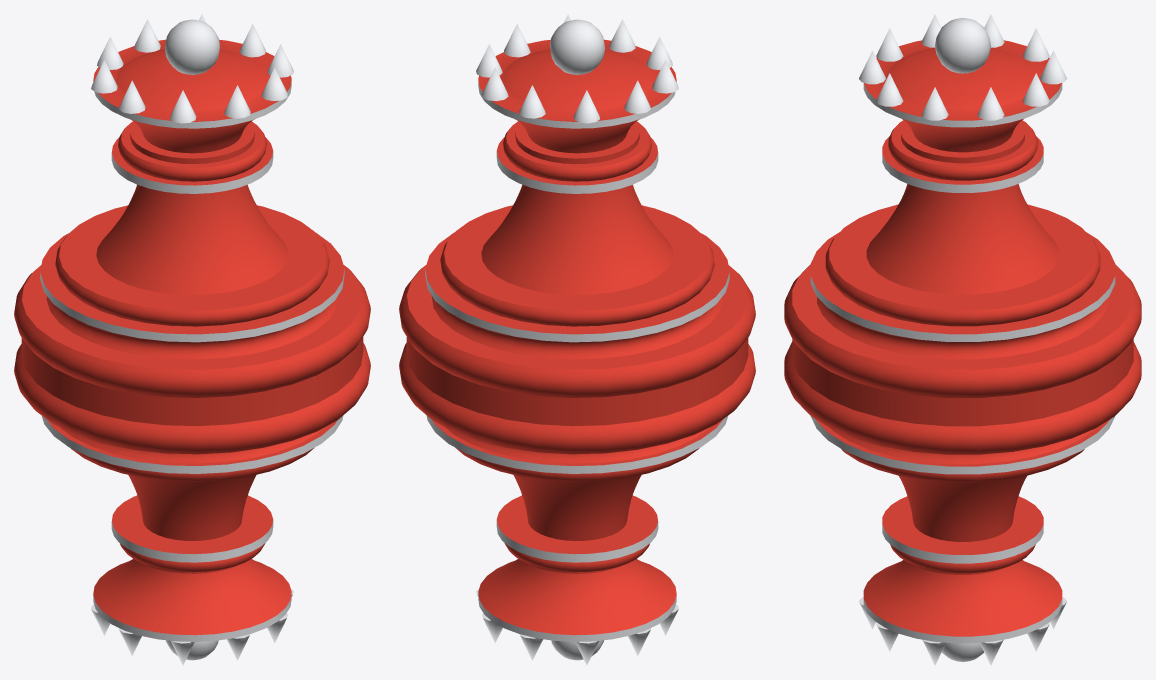
File: queen-classic.glb
3 views of the same model, side by side, from view 1: azimuth 30°, elevation 25°; view 2: azimuth 150°, elevation 25°; view 3: azimuth 270°, elevation 25° (orthographic).
Parts seen in each view (by area): view 1: queen-classic; view 2: queen-classic; view 3: queen-classic.
Part boxes in pixels (x1,y1,x2,y2): queen-classic: [14, 14, 370, 665]; queen-classic: [399, 14, 755, 665]; queen-classic: [784, 14, 1141, 665].
Size of the model in its own units: 0.4921 by 0.9718 by 0.4921.
